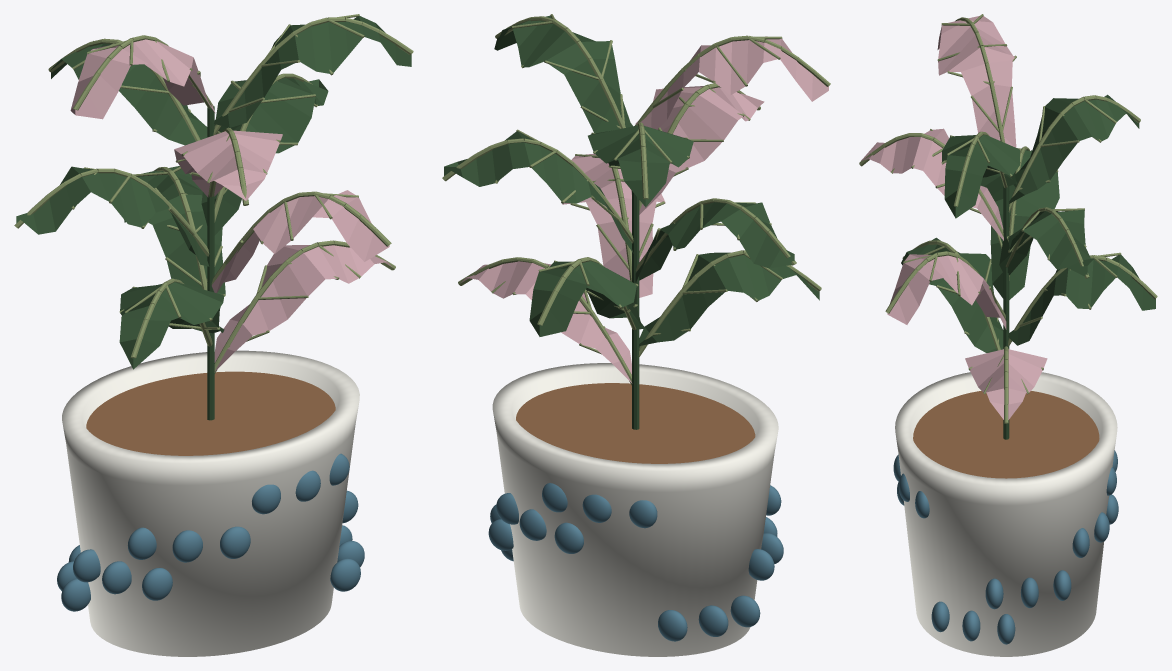
Rendered from shelf-plant.glb.
3 views of the same model, side by side, from view 1: azimuth 30°, elevation 25°; view 2: azimuth 150°, elevation 25°; view 3: azimuth 270°, elevation 25° (orthographic). The views are drawn at different scales.
Parts seen in each view (by area): view 1: shelf-plant; view 2: shelf-plant; view 3: shelf-plant.
Boxes of the visible parts, box(x1,y1,x2,y2) form: shelf-plant: box(14, 14, 413, 656); shelf-plant: box(442, 14, 830, 656); shelf-plant: box(859, 14, 1157, 656).
Size of the model in its own units: 0.24 by 0.3822 by 0.19.
